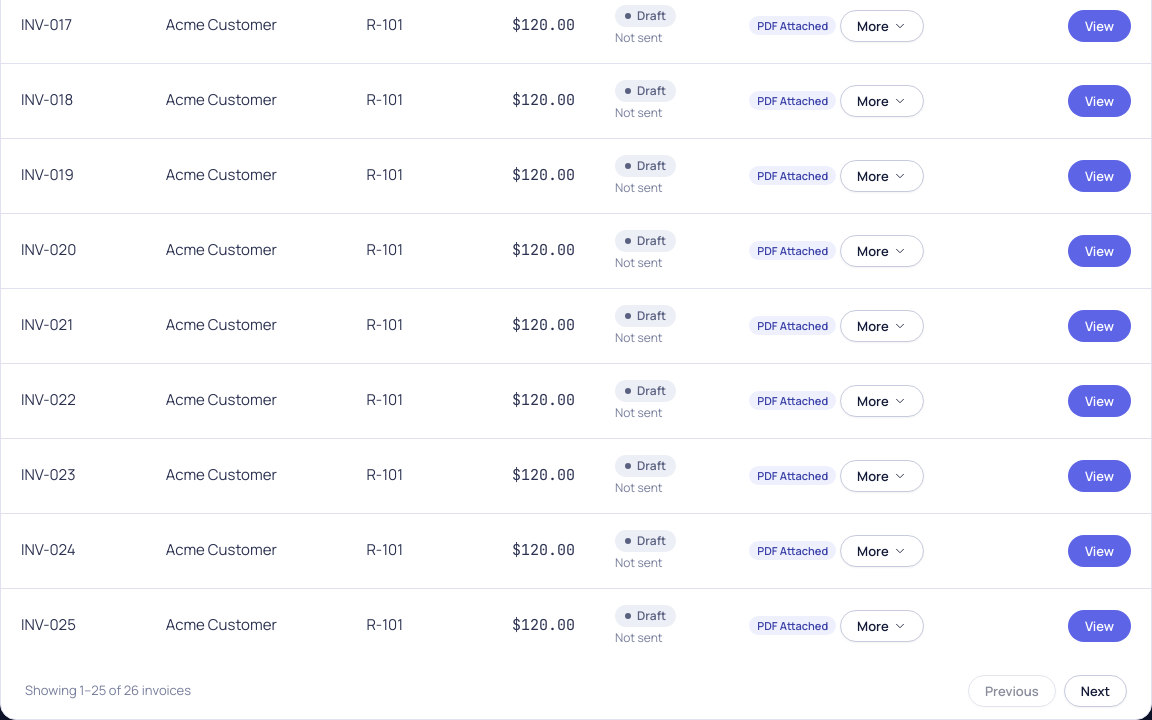
Test: InvoiceListTable › paginates invoices 25 per page with boundary-aware controls
This screenshot has width=1152, height=720.
(page scrolled)
Expected: the text "Showing 1–25 of 26 invoices" is shown, [25,681,191,700]
Expected: the text "INV-026" is not shown
Click the button with aria-label "Next page of invoices": (1095, 690) [1064,674,1127,706]
(page scrolled)
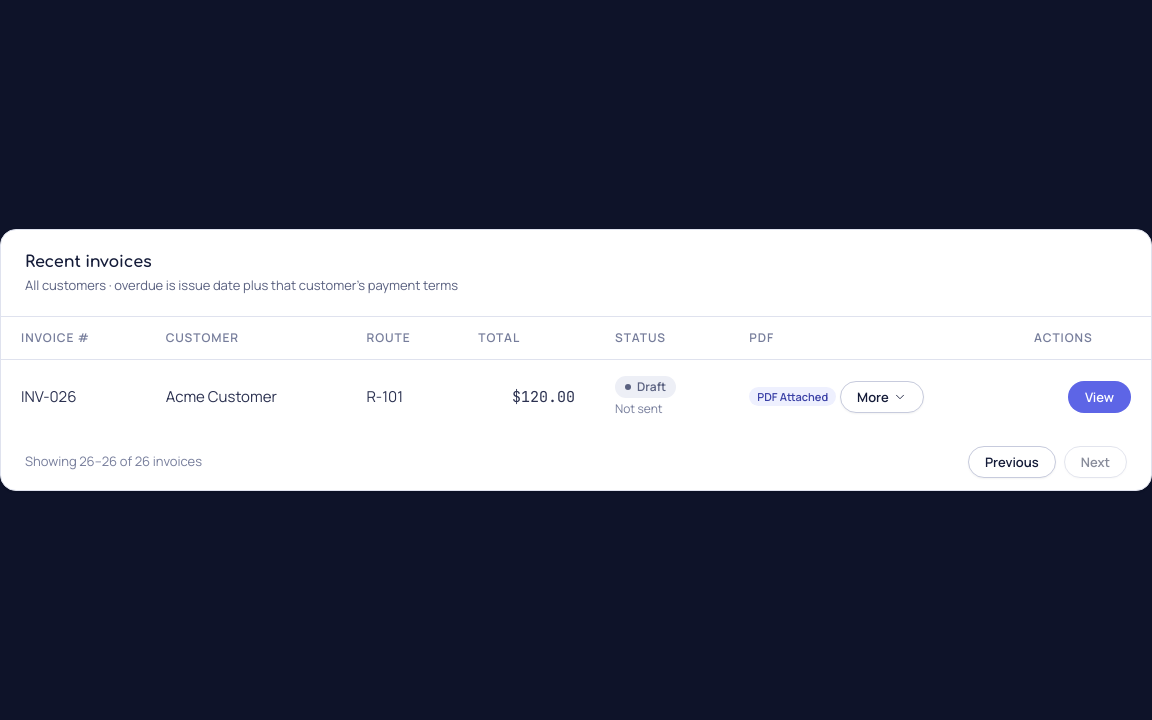
Result: the text "Showing 26–26 of 26 invoices" is shown at [25,452,202,472]
Result: the text "INV-026" is shown at [1,360,146,434]
Result: the button with aria-label "Next page of invoices" is disabled at [1064,446,1127,478]
Click the button with aria-label "Previous page of invoices": (1012, 462) [968,446,1056,478]
(page scrolled)
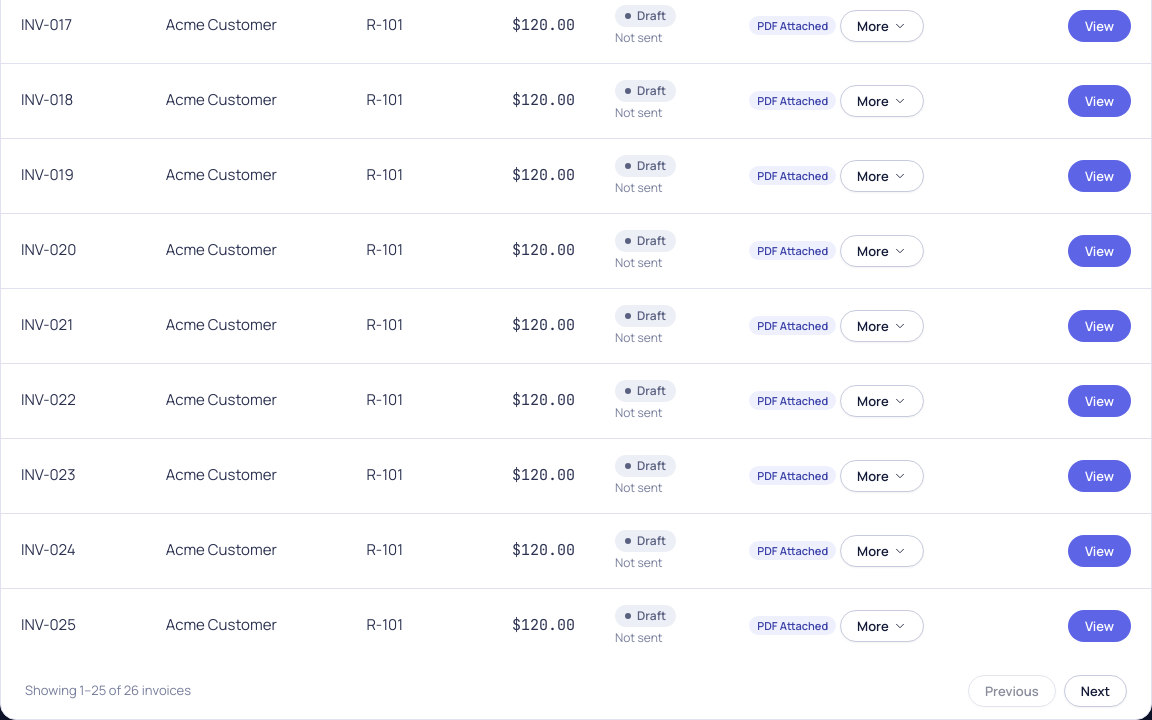
Result: the text "Showing 1–25 of 26 invoices" is shown at [25,681,191,700]
